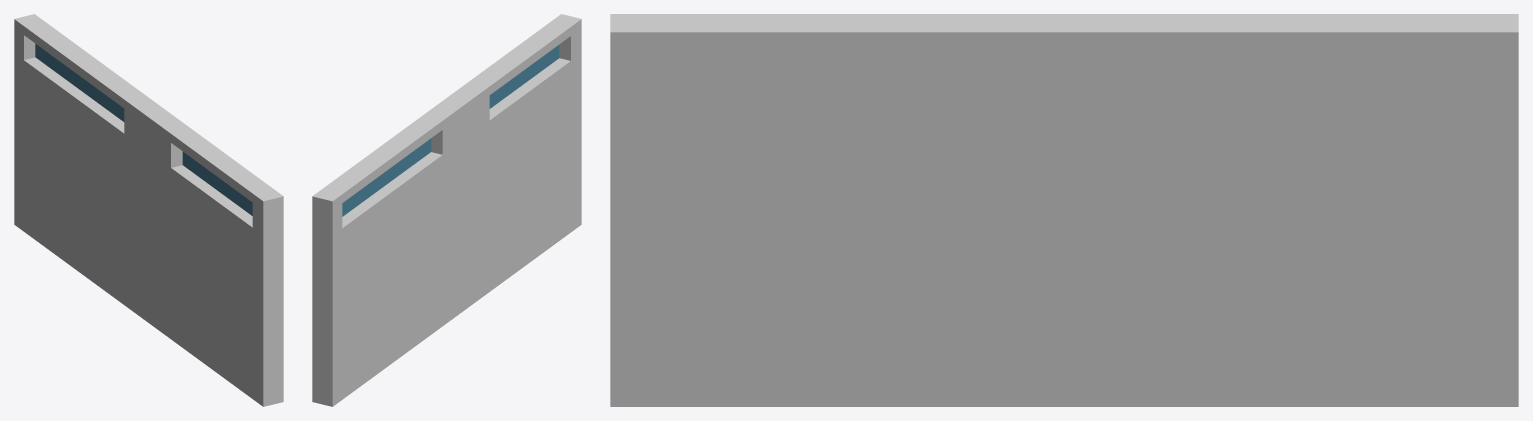
The model's file is Room01WallFix.FBX.
The picture shows the model from 3 angles, left to right: view 1: azimuth 30°, elevation 25°; view 2: azimuth 150°, elevation 25°; view 3: azimuth 270°, elevation 25°; orthographic projection. The views are drawn at different scales.
Visible parts, largest first — view 1: Box002; view 2: Box002; view 3: Box002.
Boxes of the visible parts, x1,y1,x2,y2 form: Box002: (14,14,283,406); Box002: (312,14,581,406); Box002: (610,14,1518,406).
Bounding box in the file's own units: 72.88 × 700 × 1538.
